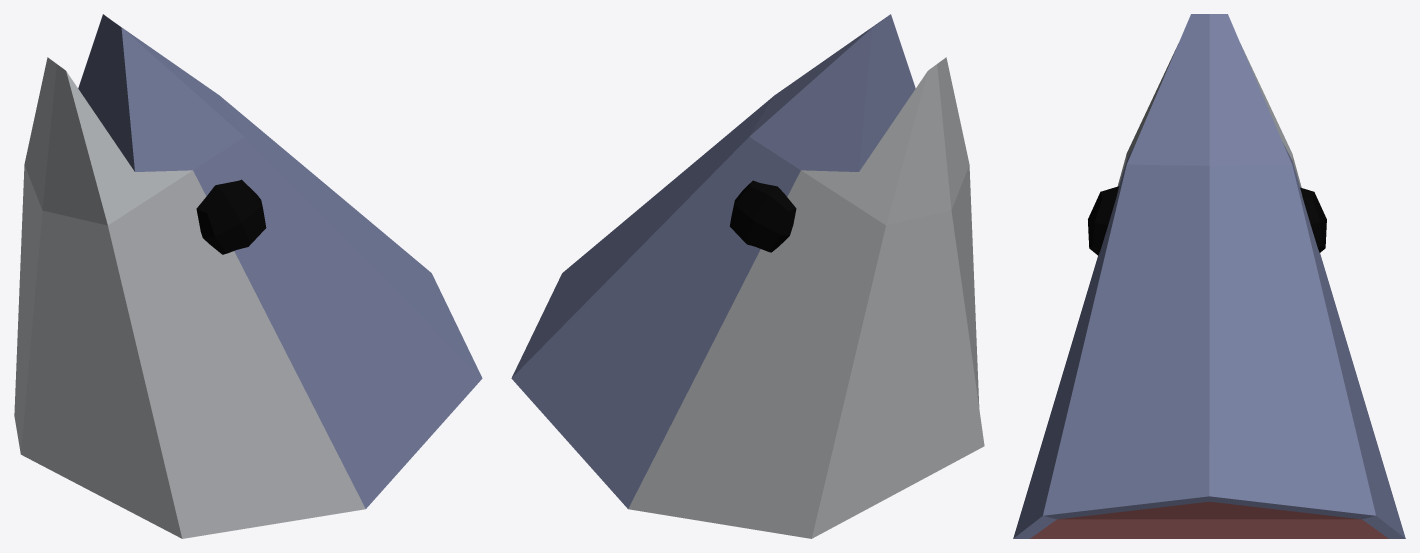
Rendered from tunaHead.fbx.
3 views of the same model, side by side, from view 1: azimuth 30°, elevation 25°; view 2: azimuth 150°, elevation 25°; view 3: azimuth 270°, elevation 25° (orthographic).
Visible parts, largest first — view 1: tunaHead; view 2: tunaHead; view 3: tunaHead.
Part boxes in pixels (<box>): tunaHead: <box>14,14,482,538</box>; tunaHead: <box>511,14,984,538</box>; tunaHead: <box>1013,14,1405,538</box>.
Bounding box in the file's own units: 26.15 × 27.4 × 21.52.
Materials: 1 (1 with a texture image).
